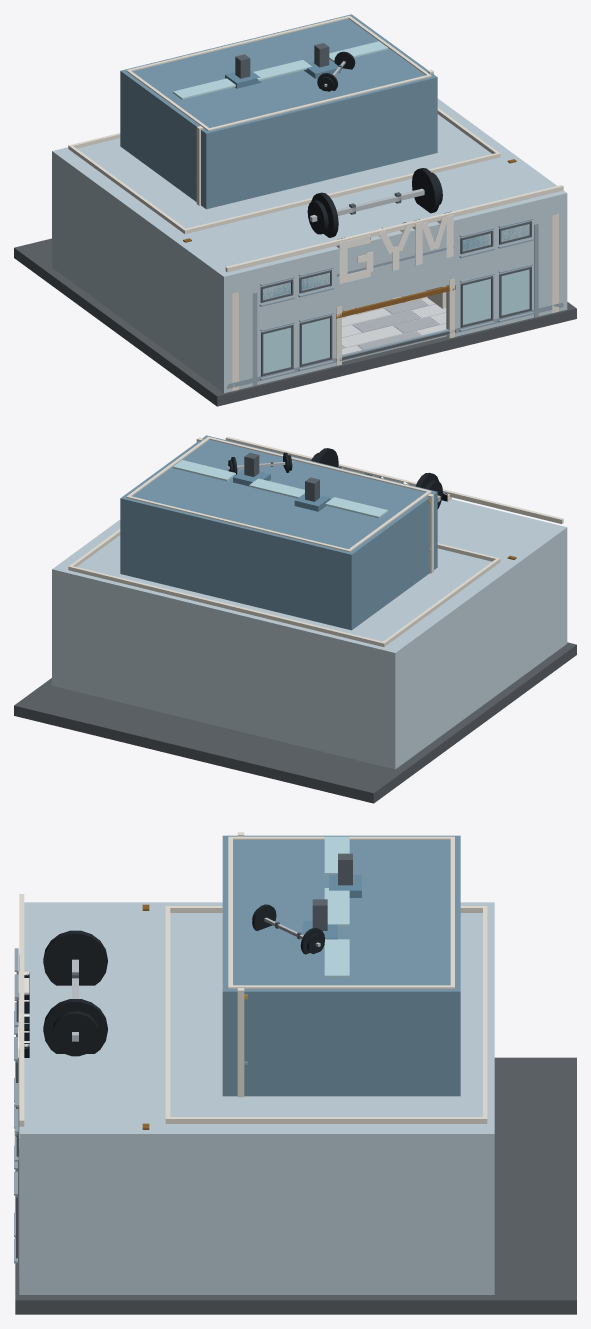
The model's file is gym-building-large.glb.
3 views of the same model, one above another, from view 1: azimuth 30°, elevation 25°; view 2: azimuth 150°, elevation 25°; view 3: azimuth 270°, elevation 25° (orthographic). The views are drawn at different scales.
Parts seen in each view (by area): view 1: gym_cutaway_roof, gym_cutaway_upper, gym_hull_wall_front, gym_hull_wall_left, gym_exterior_detail, gym_foundation, gym_interior, gym_hull_wall_right, gym_cutaway_roof_34, gym_cutaway_roof_29, gym_cutaway_roof_32, gym_cutaway_roof_33 (+1 smaller); view 2: gym_hull_wall_back, gym_cutaway_roof, gym_cutaway_upper, gym_hull_wall_left, gym_foundation, gym_exterior_detail, gym_hull_wall_right, gym_hull_wall_front; view 3: gym_cutaway_roof, gym_hull_wall_right, gym_foundation, gym_cutaway_upper, gym_exterior_detail, gym_hull_wall_back, gym_cutaway_roof_32, gym_cutaway_roof_35, gym_cutaway_roof_34, gym_hull_wall_front, gym_hull_wall_left.
Boxes of the visible parts, x1,y1,x2,y2 form: gym_cutaway_roof: (53,14,567,281); gym_cutaway_upper: (120,14,437,209); gym_hull_wall_front: (221,191,565,392); gym_hull_wall_left: (52,151,229,393); gym_exterior_detail: (225,185,563,391); gym_foundation: (14,238,576,406); gym_interior: (342,296,446,361); gym_hull_wall_right: (437,99,567,310); gym_cutaway_roof_34: (412,168,439,213); gym_cutaway_roof_29: (310,188,424,222); gym_cutaway_roof_32: (311,192,338,237); gym_cutaway_roof_33: (307,200,328,234); gym_hull_wall_back: (53,567,398,769); gym_cutaway_roof: (52,436,565,657); gym_cutaway_upper: (120,435,437,630); gym_hull_wall_left: (390,526,567,769); gym_foundation: (14,642,576,803); gym_exterior_detail: (225,436,563,523); gym_hull_wall_right: (52,521,120,686); gym_hull_wall_front: (449,499,567,645); gym_cutaway_roof: (19,835,494,1141); gym_hull_wall_right: (19,1130,494,1294); gym_foundation: (15,1057,576,1314); gym_cutaway_upper: (222,832,460,1097); gym_exterior_detail: (14,894,29,1275); gym_hull_wall_back: (486,902,494,1294); gym_cutaway_roof_32: (43,930,107,985); gym_cutaway_roof_35: (52,1011,99,1056); gym_cutaway_roof_34: (43,999,107,1053); gym_hull_wall_front: (19,902,27,1294); gym_hull_wall_left: (24,902,494,905).
Size of the model in its own units: 22.7 by 13.74 by 22.26.
